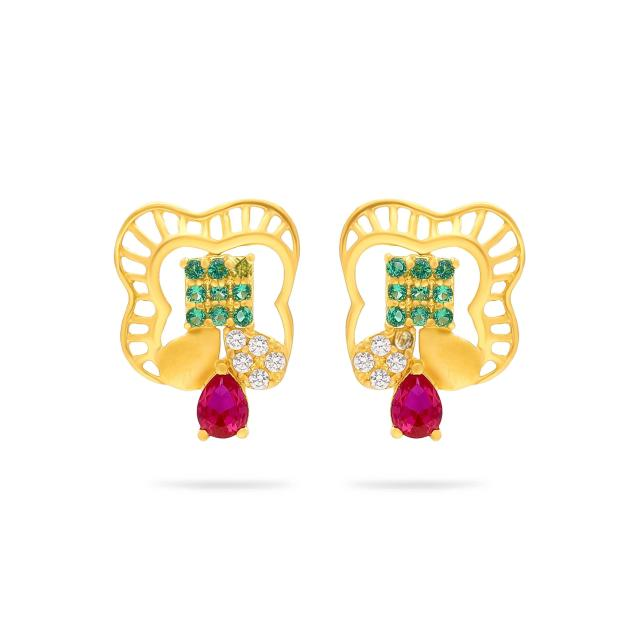missing gem: (394, 330, 413, 350), (234, 259, 251, 277)
